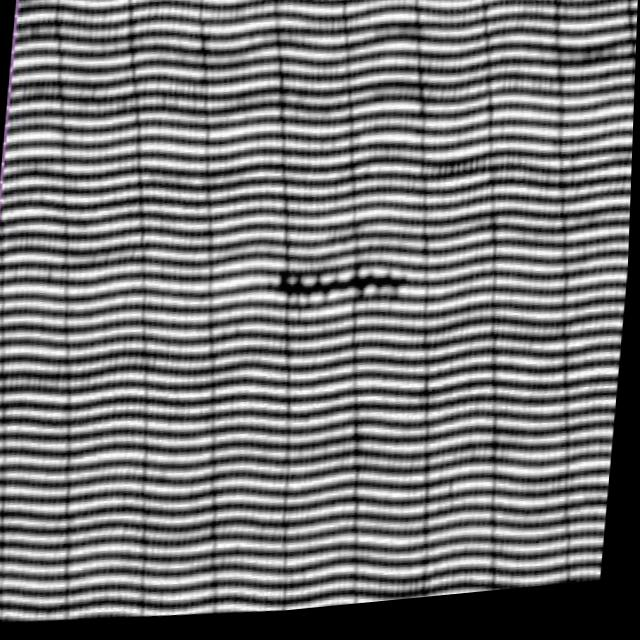Stitch: (268, 250, 426, 342)
